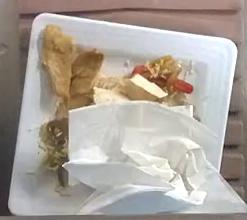meatless_chicken_tender: (42, 25, 103, 109)
rice_mix: (39, 118, 69, 170)
vegetables: (119, 56, 193, 105)
